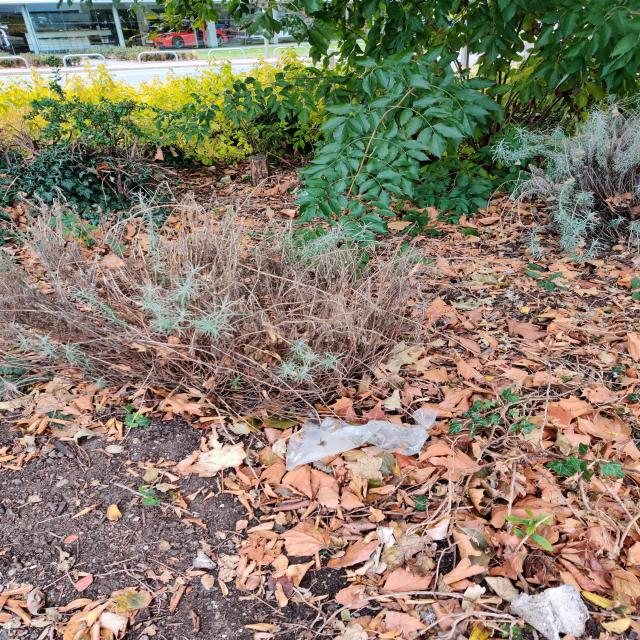litter: (289, 407, 436, 478)
